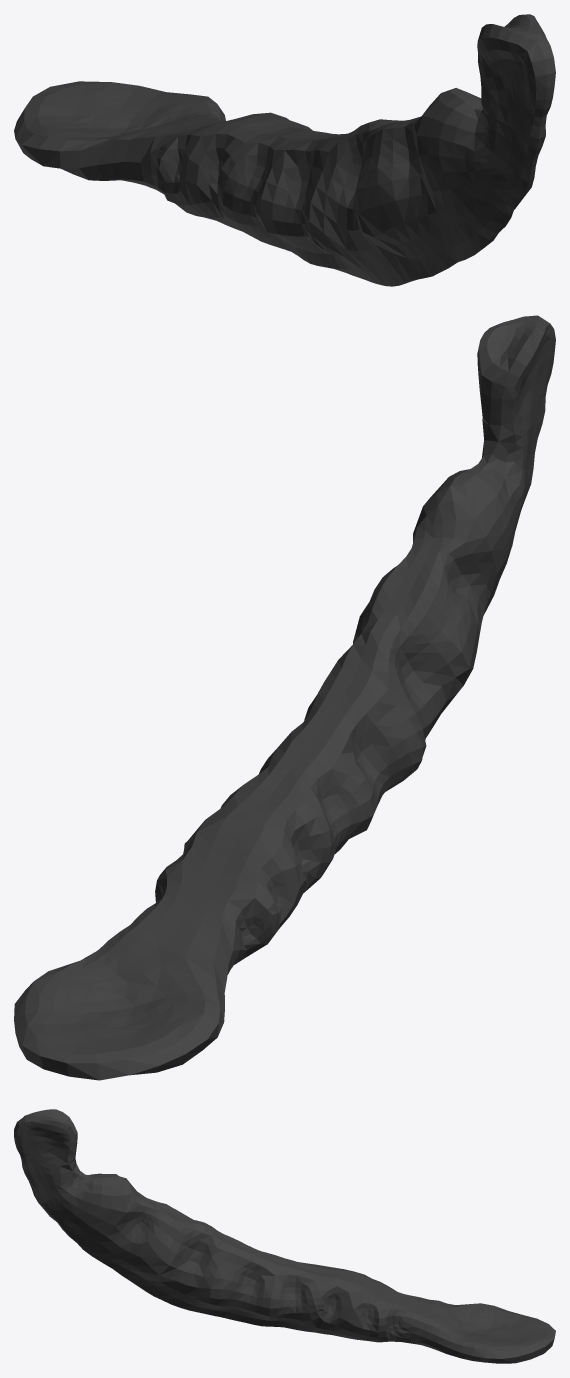
File: Sternum.glb
3 views of the same model, one above another, from view 1: azimuth 30°, elevation 25°; view 2: azimuth 150°, elevation 25°; view 3: azimuth 270°, elevation 25° (orthographic). The views are drawn at different scales.
Parts seen in each view (by area): view 1: Sternum; view 2: Sternum; view 3: Sternum.
Boxes of the visible parts, <box> form: Sternum: <box>14,14,555,286</box>; Sternum: <box>14,315,555,1080</box>; Sternum: <box>14,1109,555,1363</box>.
Size of the model in its own units: 0.1249 by 0.2629 by 0.5598.
Materials: 1 (1 with a texture image).
